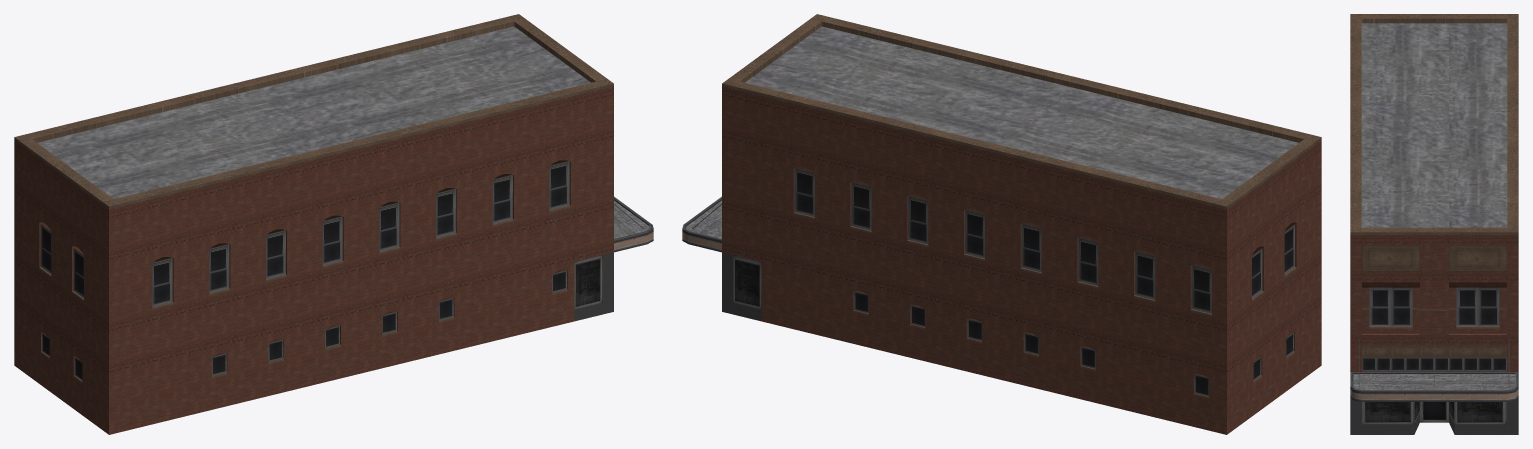
File: building-a.glb
The picture shows the model from 3 angles, left to right: view 1: azimuth 30°, elevation 25°; view 2: azimuth 150°, elevation 25°; view 3: azimuth 270°, elevation 25°; orthographic projection. The views are drawn at different scales.
Visible parts, largest first — view 1: MainBuilding_0; view 2: MainBuilding_0; view 3: MainBuilding_0.
Part boxes in pixels (<box>): MainBuilding_0: <box>14,14,653,434</box>; MainBuilding_0: <box>682,14,1321,434</box>; MainBuilding_0: <box>1350,14,1518,434</box>.
Size of the model in its own units: 2 by 0.7932 by 0.598.
Materials: 1 (1 with a texture image).
